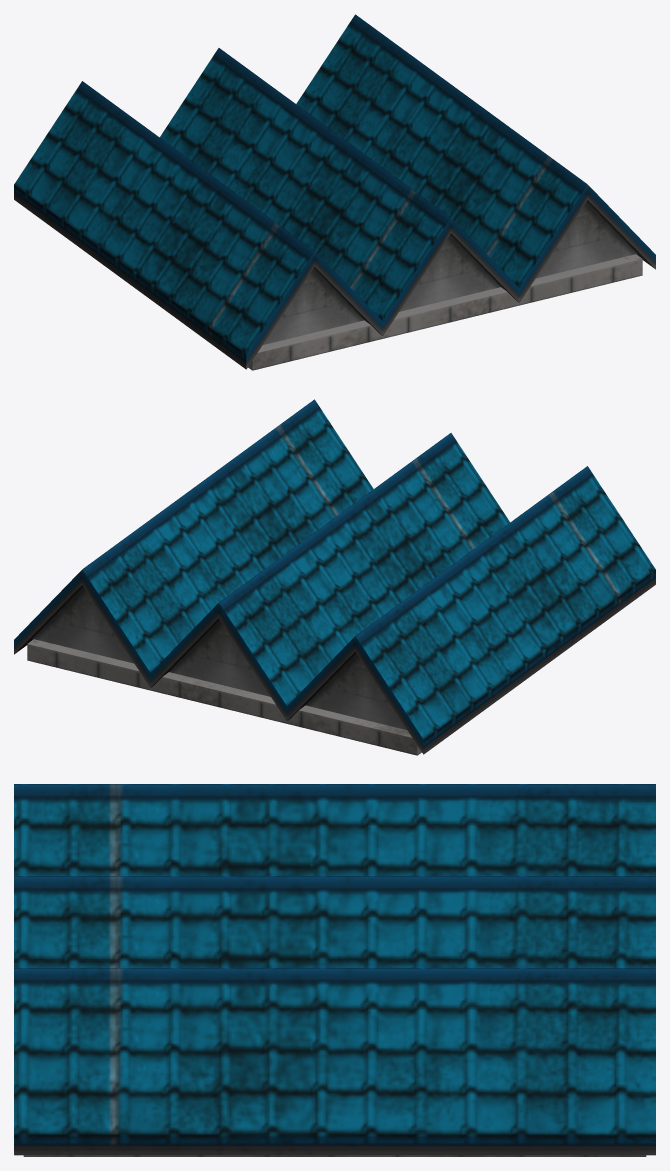
File: Building03_roof3.FBX
3 views of the same model, one above another, from view 1: azimuth 30°, elevation 25°; view 2: azimuth 150°, elevation 25°; view 3: azimuth 270°, elevation 25° (orthographic). The views are drawn at different scales.
Visible parts, largest first — view 1: roof3; view 2: roof3; view 3: roof3.
Part boxes in pixels (<box>): roof3: <box>14,14,655,370</box>; roof3: <box>14,399,655,755</box>; roof3: <box>14,784,655,1156</box>.
Bounding box in the file's own units: 9.34 × 2.35 × 9.17.
